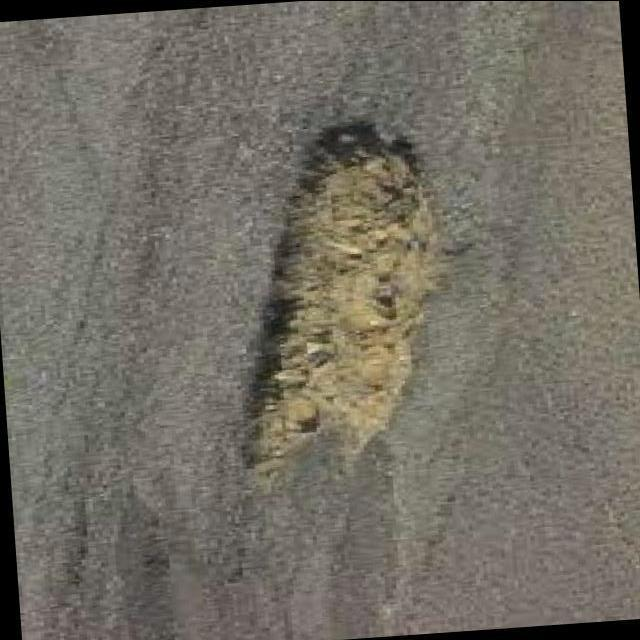pothole: (252, 124, 438, 491)
